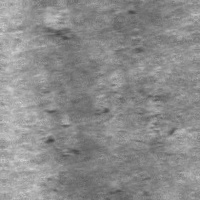rolled-in_scale: (86, 73, 172, 155), (27, 79, 84, 165), (41, 15, 82, 40)
